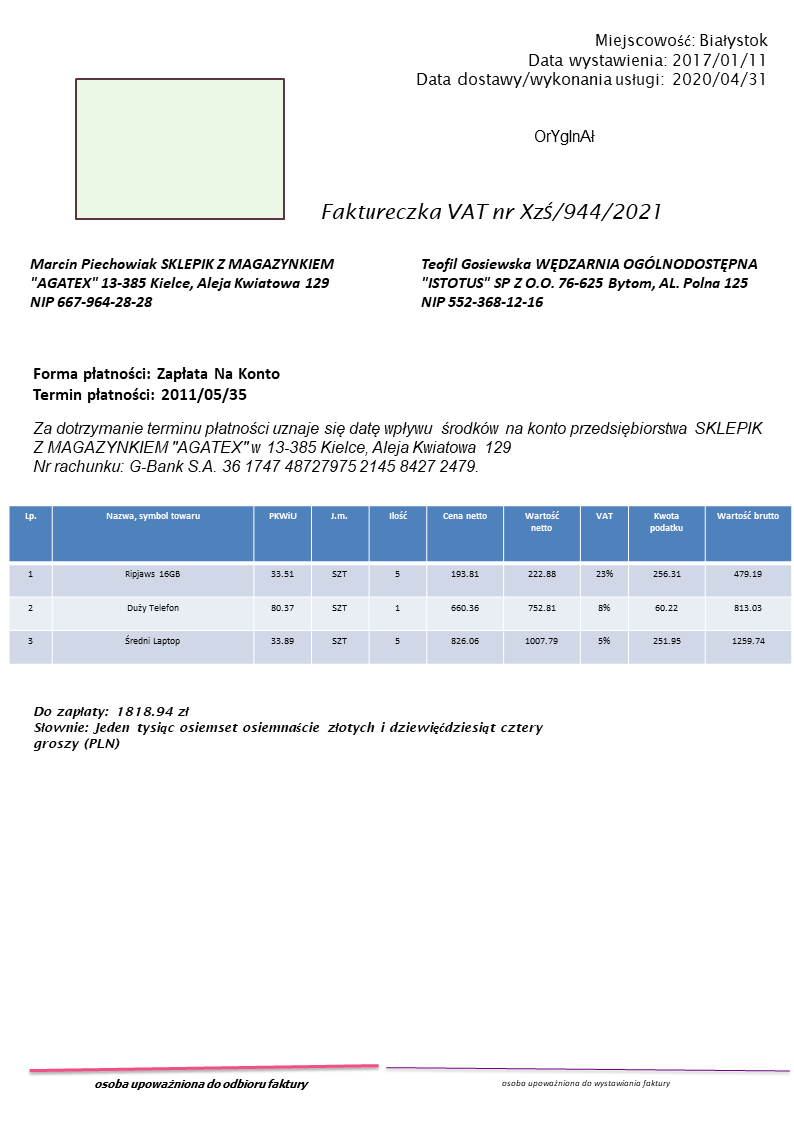Table: (7, 504, 793, 666)
TextBox: (30, 418, 765, 477), (32, 703, 545, 754), (412, 31, 772, 90), (418, 254, 760, 310), (27, 254, 337, 312), (29, 364, 284, 405), (317, 198, 662, 225), (92, 1073, 310, 1095), (497, 1074, 673, 1090), (531, 127, 598, 148)
